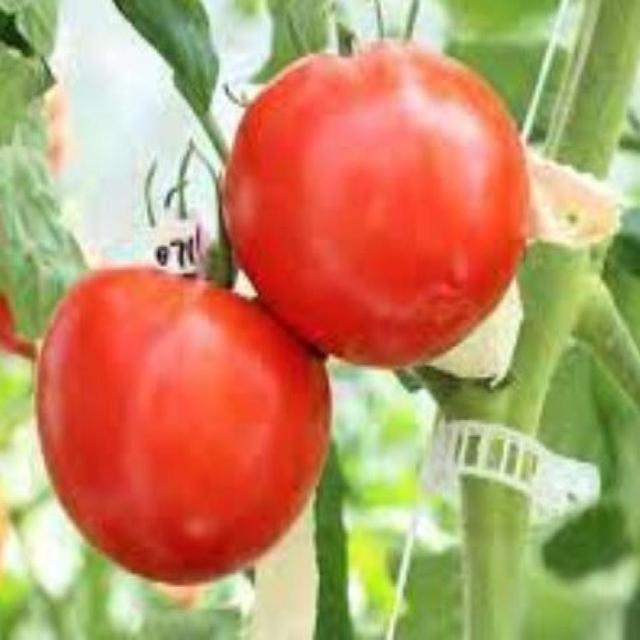Healthy Fruit: (120, 143, 254, 276)
